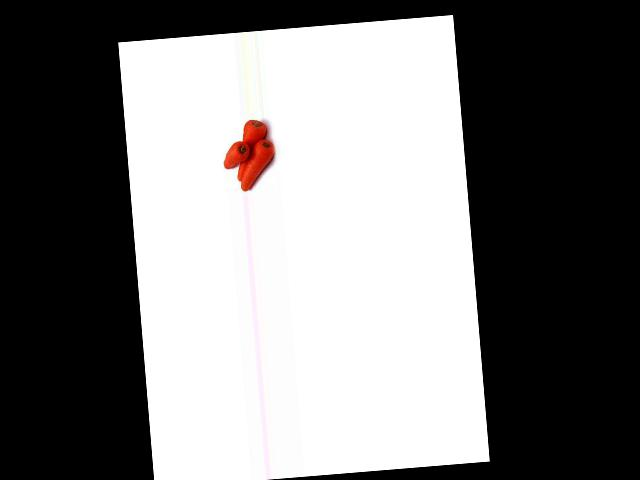carrot: (232, 117, 272, 188)
